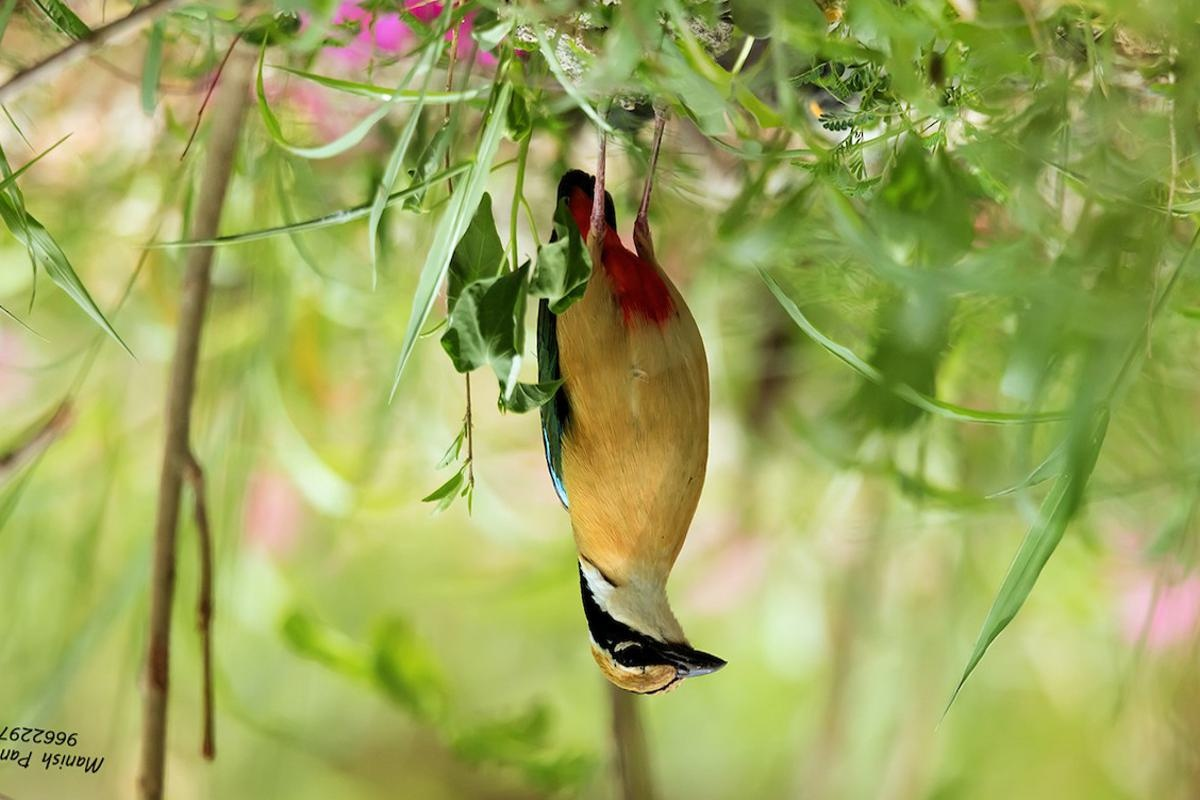pitta: (507, 112, 775, 744)
